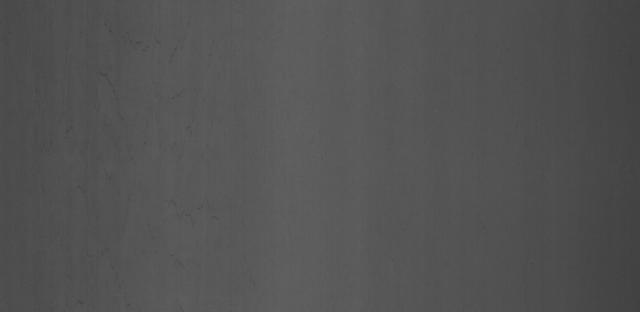silk_spot: (89, 29, 223, 116), (147, 198, 244, 280)
